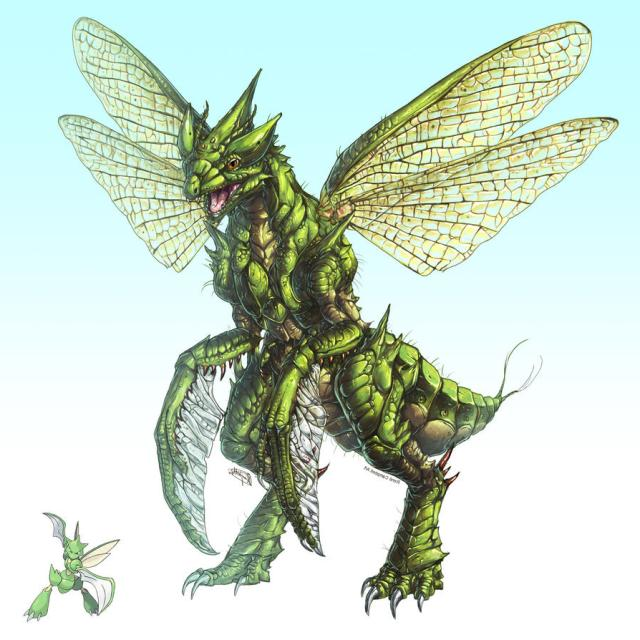Scyther: (139, 48, 496, 605), (31, 510, 120, 620)
